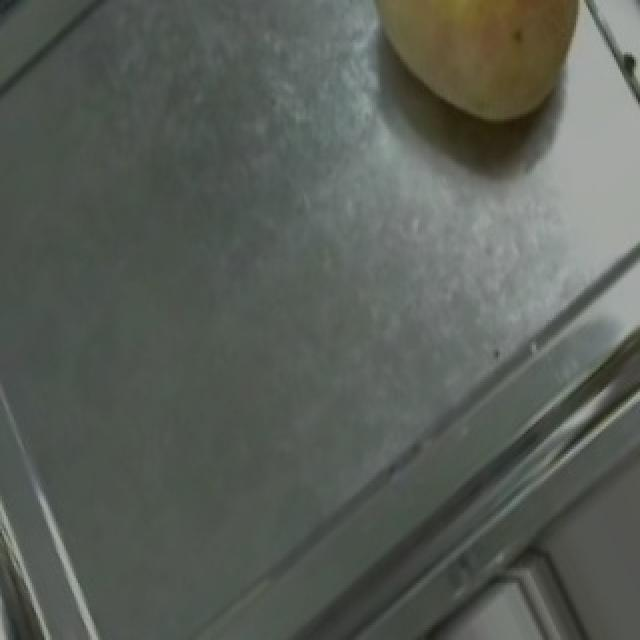Fruit: (330, 0, 610, 159)
